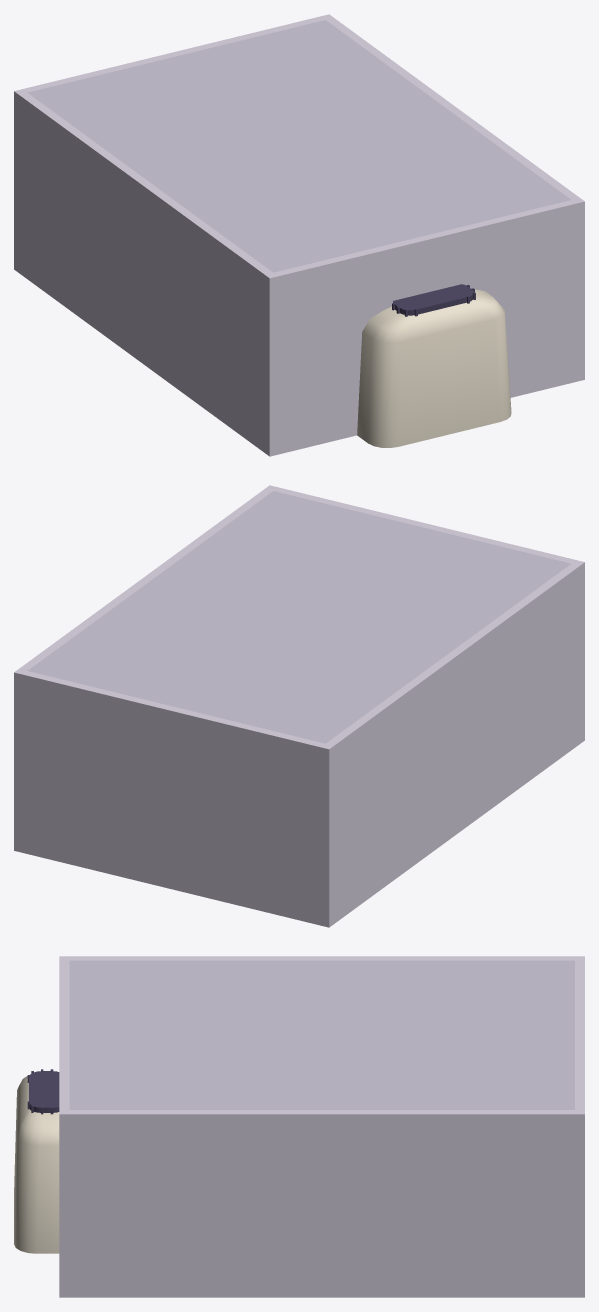
The model's file is team-station.glb.
3 views of the same model, one above another, from view 1: azimuth 30°, elevation 25°; view 2: azimuth 150°, elevation 25°; view 3: azimuth 270°, elevation 25° (orthographic). The views are drawn at different scales.
Visible parts, largest first — view 1: briefing room wall 0, briefing room ceiling, station pod shell, briefing room wall lintel, station pod ring; view 2: briefing room wall 0, briefing room ceiling; view 3: briefing room wall 0, briefing room ceiling, station pod shell, station pod ring, briefing room wall lintel.
Part boxes in pixels (x1,y1,x2,y2): briefing room wall 0: (14,14,584,456); briefing room ceiling: (28,20,570,272); station pod shell: (357,289,511,447); briefing room wall lintel: (376,225,473,311); station pod ring: (393,284,473,315); briefing room wall 0: (14,485,584,927); briefing room ceiling: (28,491,570,743); briefing room wall 0: (59,956,584,1297); briefing room ceiling: (69,960,574,1109); station pod shell: (14,1076,59,1253); station pod ring: (29,1071,59,1112); briefing room wall lintel: (59,1012,69,1058).
Bounding box in the file's own units: 7.4 × 4 × 11.3.
